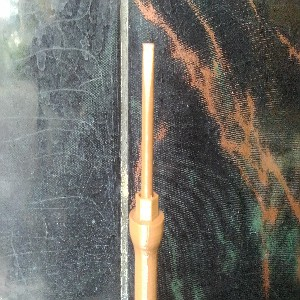obeng: (128, 42, 166, 300)
